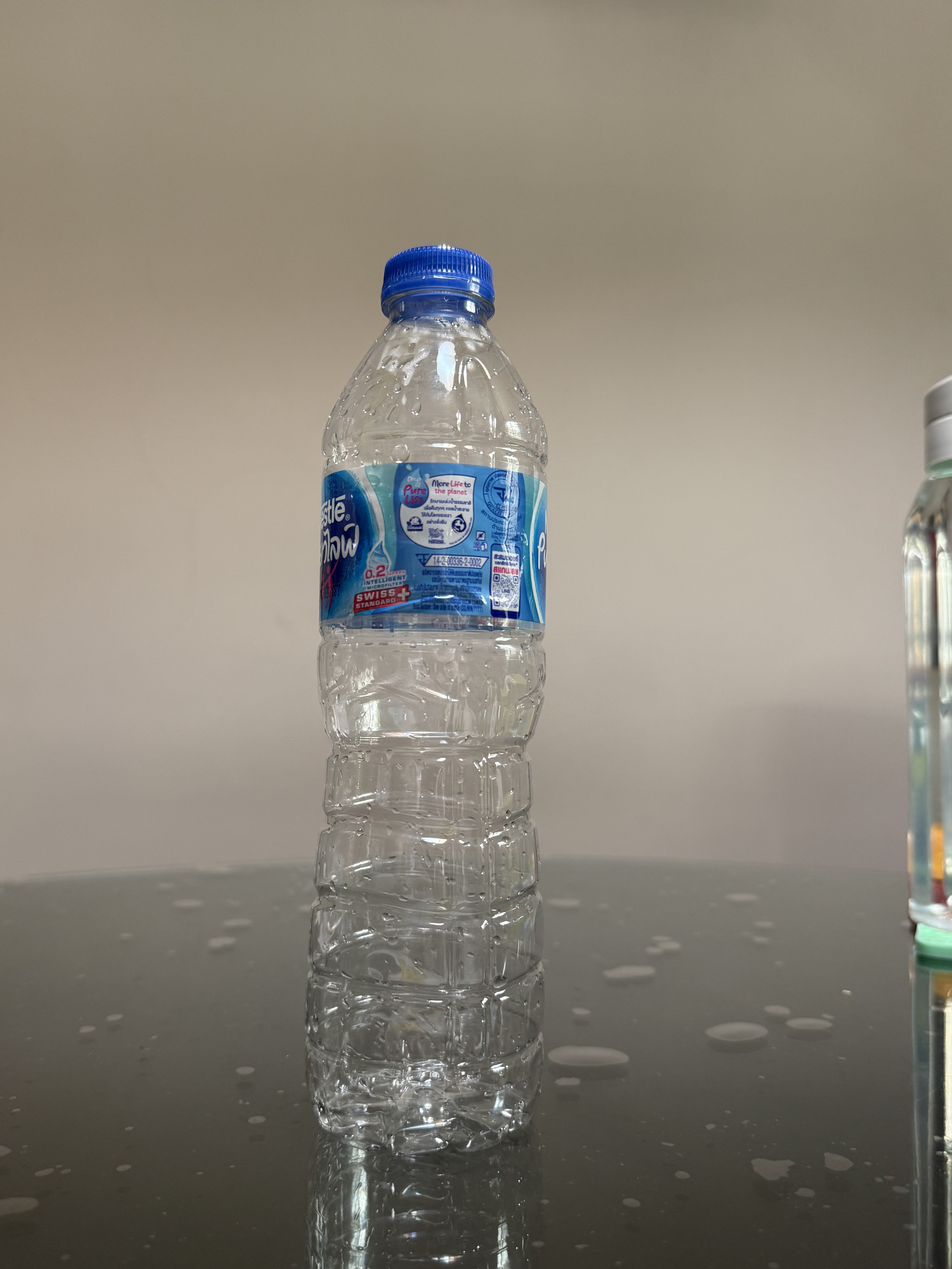closed_cap: (379, 241, 496, 319)
